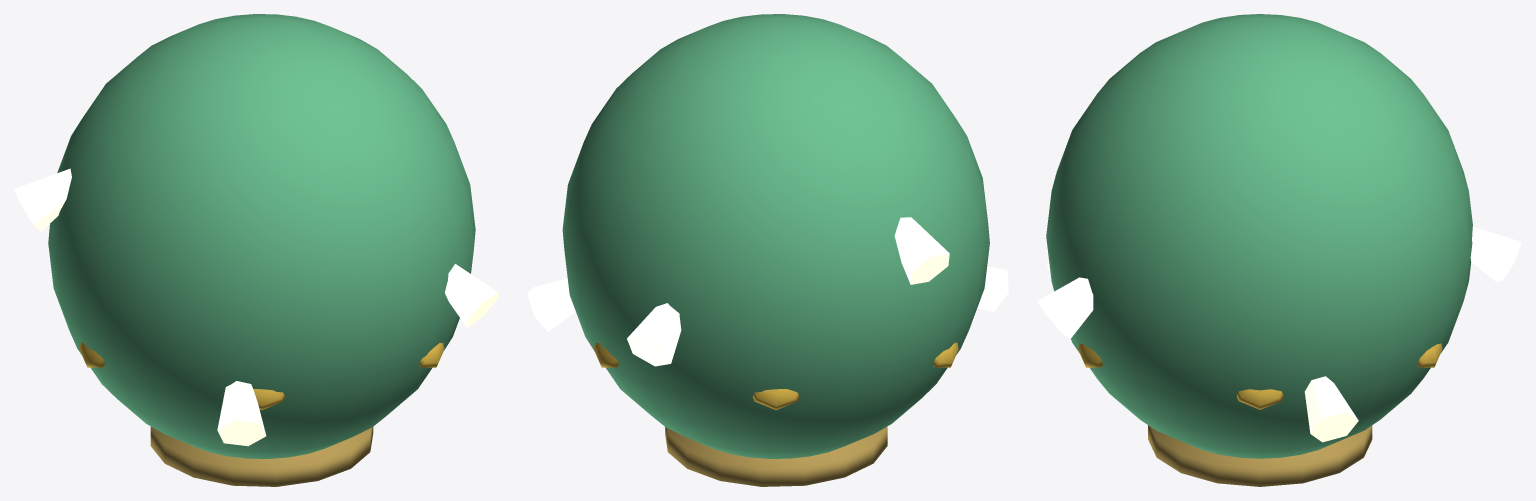
File: egg_jungle_09.glb
3 renders of one model, left to right at view 1: azimuth 30°, elevation 25°; view 2: azimuth 150°, elevation 25°; view 3: azimuth 270°, elevation 25°, orthographic.
Parts seen in each view (by area): view 1: ball; view 2: ball; view 3: ball.
Part boxes in pixels (x1,y1,x2,y2): ball: [14, 14, 498, 486]; ball: [527, 14, 1008, 486]; ball: [1037, 14, 1521, 486].
Bounding box in the file's own units: 0.9486 × 0.88 × 0.9508.
